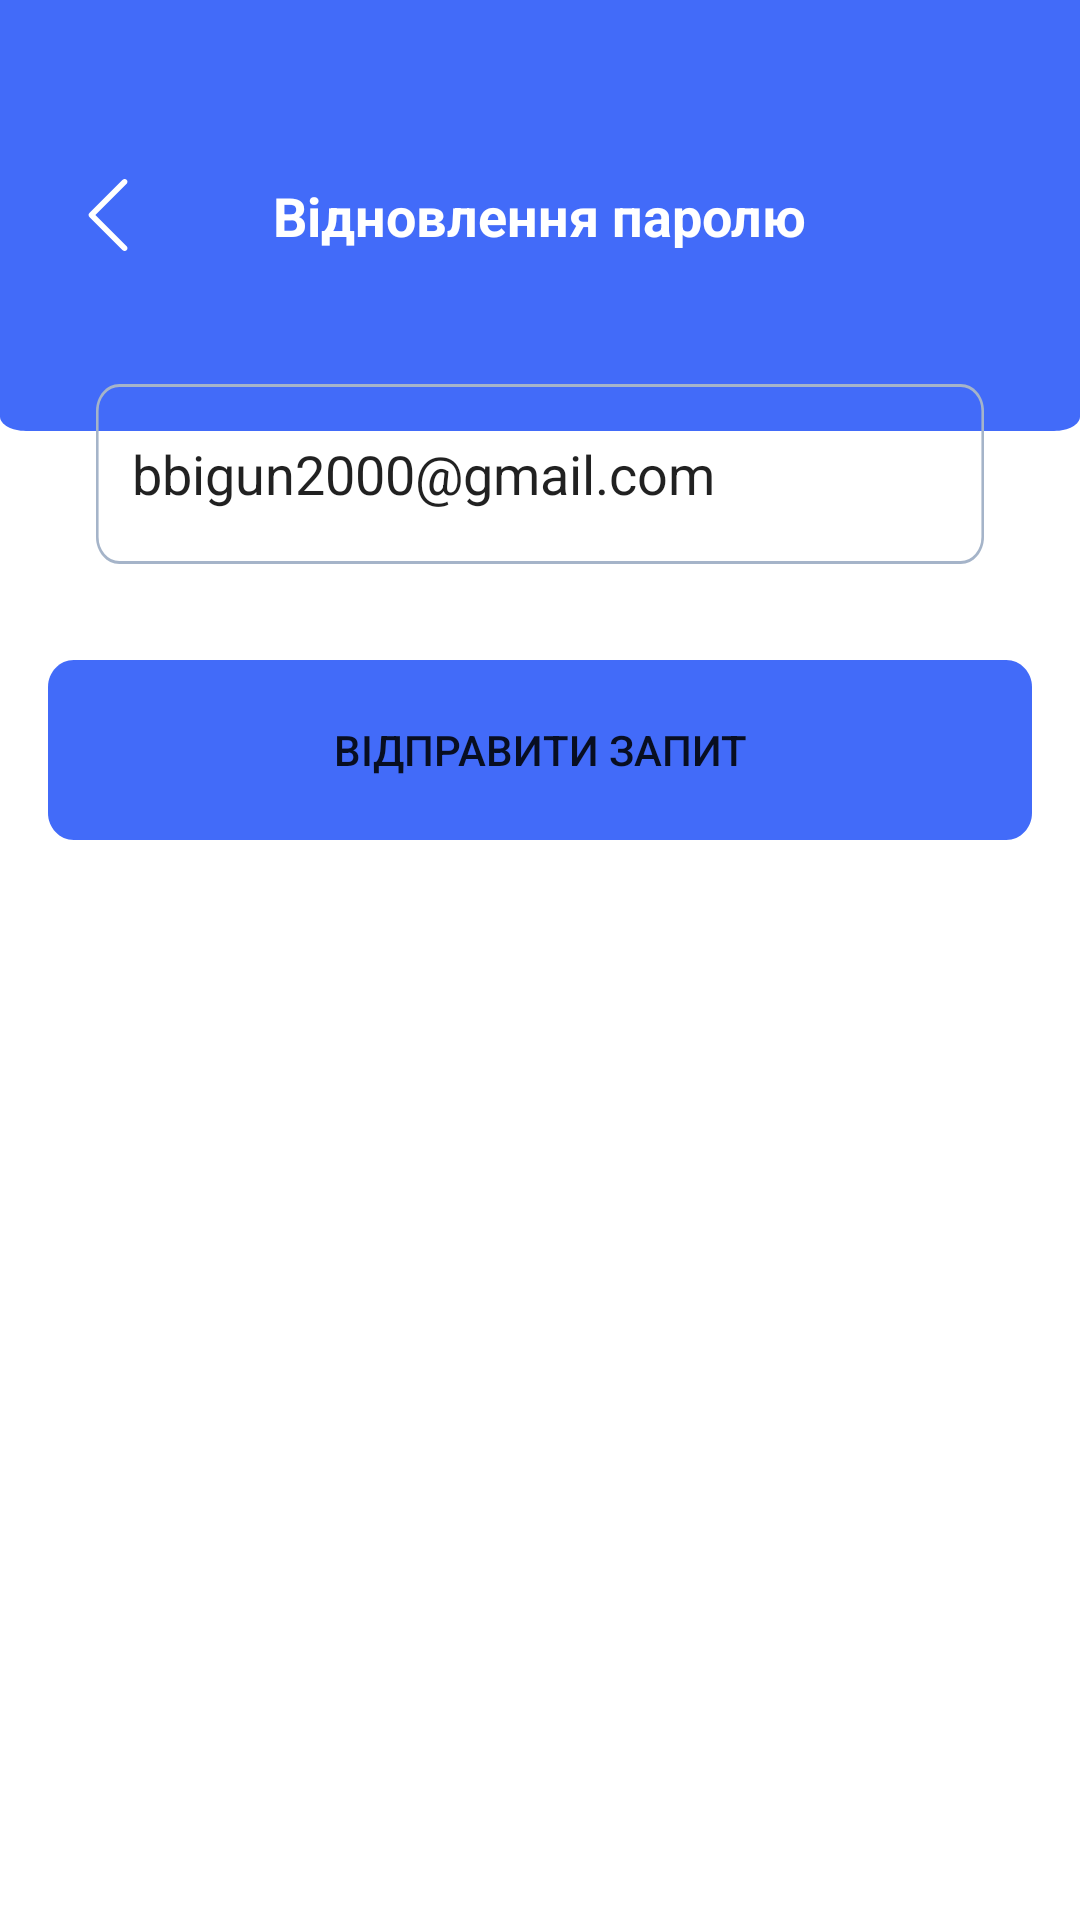

Icons on this 1080×1920 Android screen, each with the point to tap as (x,y):
back: (108,215)
